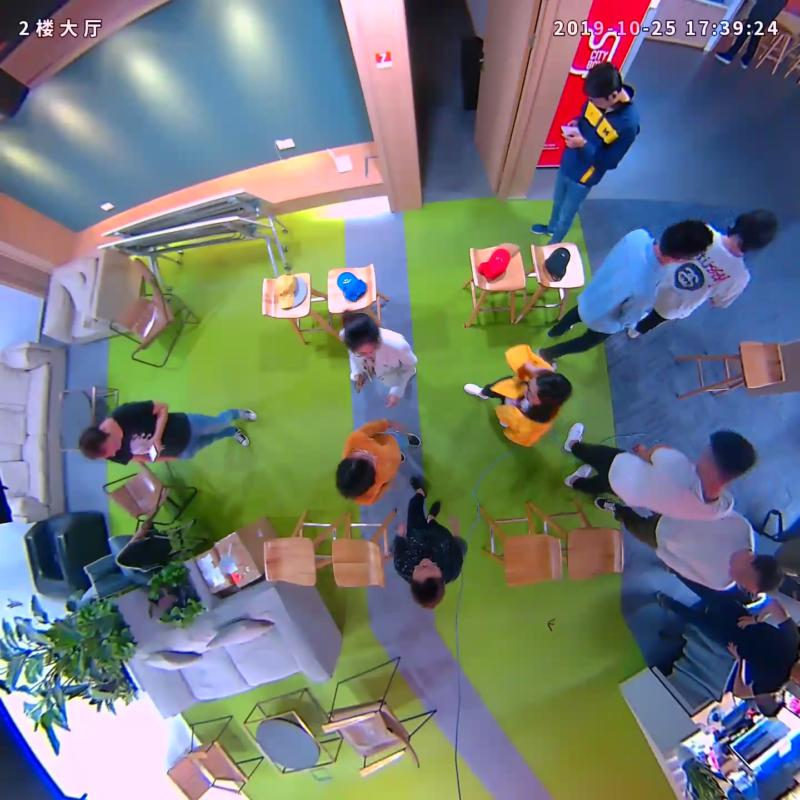head: (696, 429, 758, 483), (658, 219, 715, 264), (729, 551, 781, 595), (730, 209, 776, 253), (336, 449, 376, 498), (409, 557, 445, 609), (583, 62, 621, 111), (343, 310, 381, 359), (524, 370, 573, 408), (77, 426, 121, 461)
